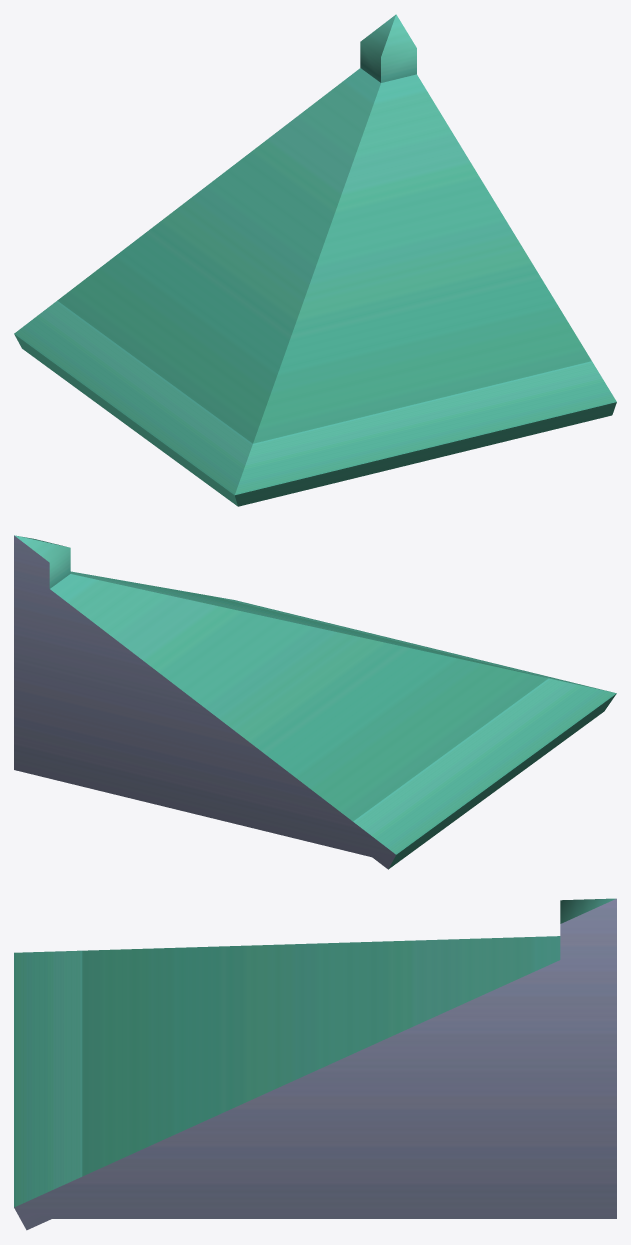
The model's file is roof-corner.glb.
3 renders of one model, top to bottom at view 1: azimuth 30°, elevation 25°; view 2: azimuth 150°, elevation 25°; view 3: azimuth 270°, elevation 25°, orthographic. The views are drawn at different scales.
Visible parts, largest first — view 1: roof-corner; view 2: roof-corner; view 3: roof-corner.
Part boxes in pixels (<box>): roof-corner: <box>14,14,616,506</box>; roof-corner: <box>14,535,616,869</box>; roof-corner: <box>14,898,616,1230</box>.
Bounding box in the file's own units: 1.07 × 0.6483 × 1.07.
1 material, 1 textured.
